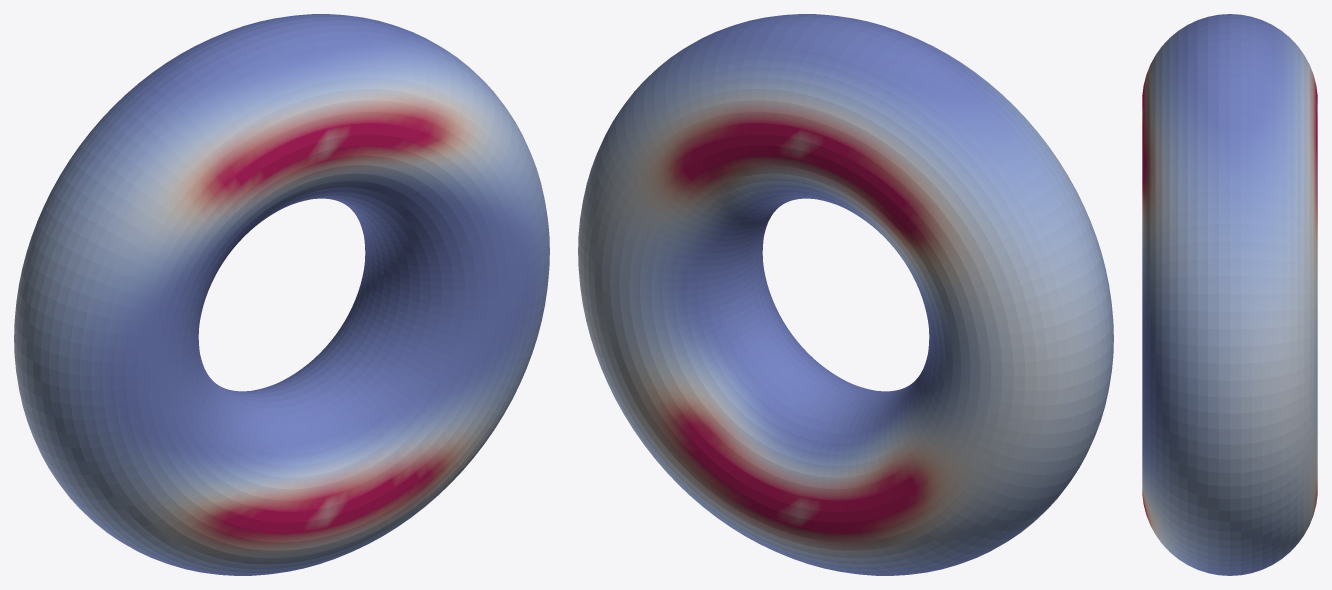
The picture shows the model from 3 angles, left to right: view 1: azimuth 30°, elevation 25°; view 2: azimuth 150°, elevation 25°; view 3: azimuth 270°, elevation 25°; orthographic projection. The views are drawn at different scales.
Parts seen in each view (by area): view 1: world; view 2: world; view 3: world.
Part boxes in pixels (x1,y1,x2,y2): world: (14,14,549,575); world: (578,14,1113,575); world: (1142,14,1317,575).
Bounding box in the file's own units: 17.47 × 17.47 × 5.46.
